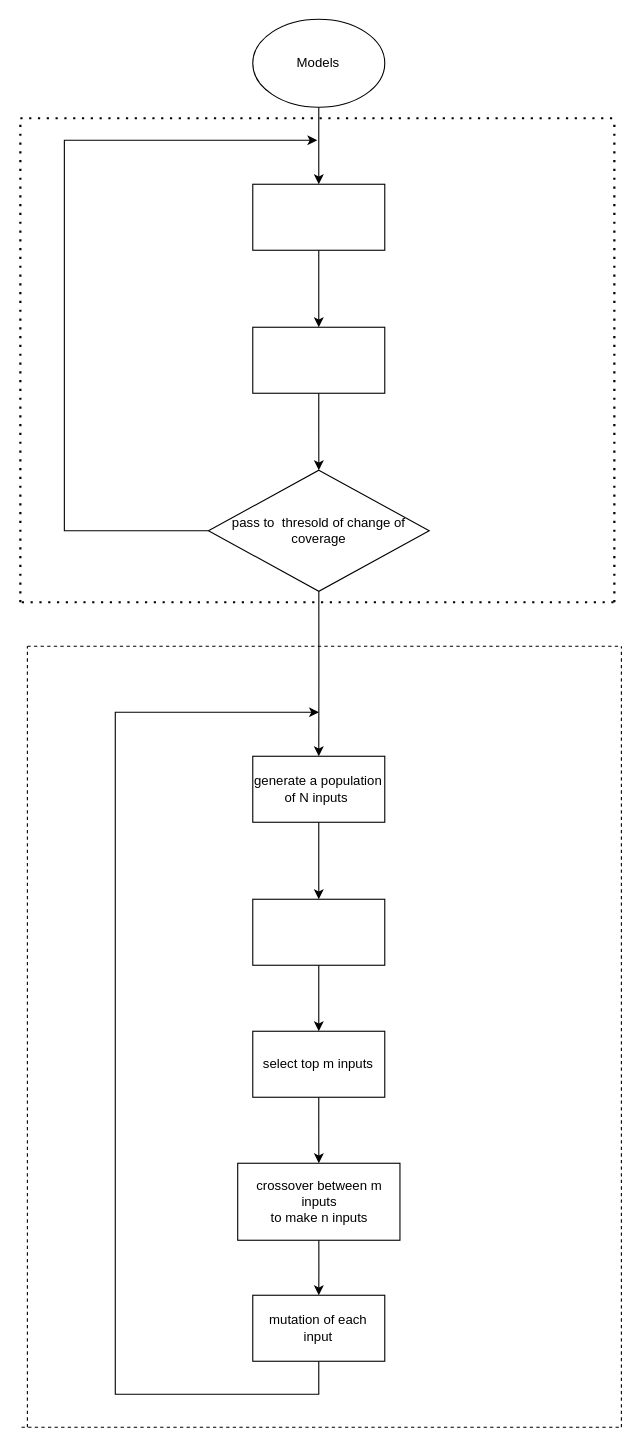
This 641x1448 diagram has some shape labels left out. Here are the shapes that lost their labels. From the top down, the box of each, then its label:
(252, 183, 385, 250): Mutate hyperparameters
(252, 326, 385, 393): Calculate change of coverage
(252, 898, 385, 965): Calc fitness function for each input
